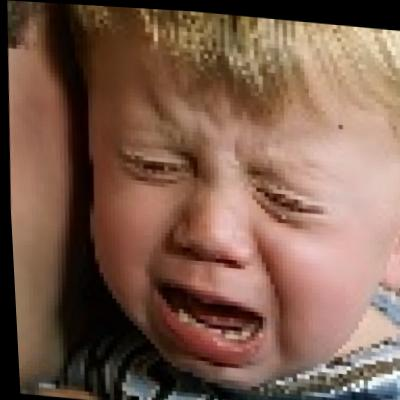sad: (76, 24, 380, 386)
